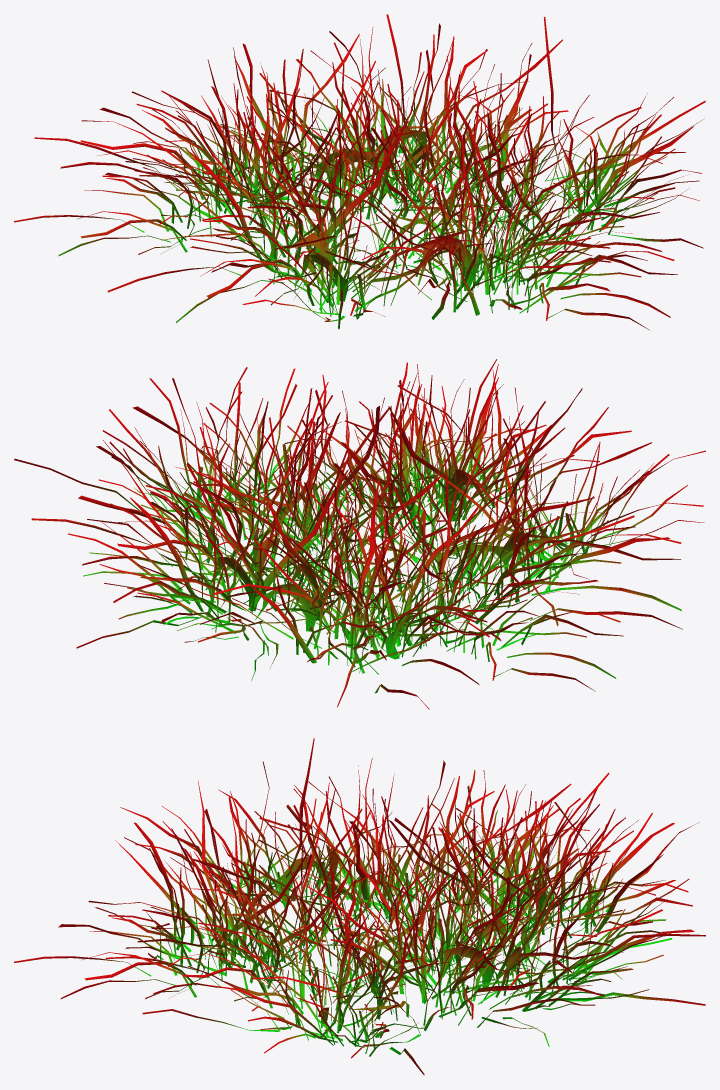
File: Tundra Grass_LOD1_Var27_wk2oaeyqx.fbx
3 views of the same model, one above another, from view 1: azimuth 30°, elevation 25°; view 2: azimuth 150°, elevation 25°; view 3: azimuth 270°, elevation 25° (orthographic). The views are drawn at different scales.
Parts seen in each view (by area): view 1: _kuvo_Var27_LOD1; view 2: _kuvo_Var27_LOD1; view 3: _kuvo_Var27_LOD1.
Part boxes in pixels (bbox=[...]): _kuvo_Var27_LOD1: bbox=[14, 14, 705, 330]; _kuvo_Var27_LOD1: bbox=[14, 359, 705, 709]; _kuvo_Var27_LOD1: bbox=[14, 738, 705, 1075].
Bounding box in the file's own units: 78.39 × 21.75 × 75.46.
